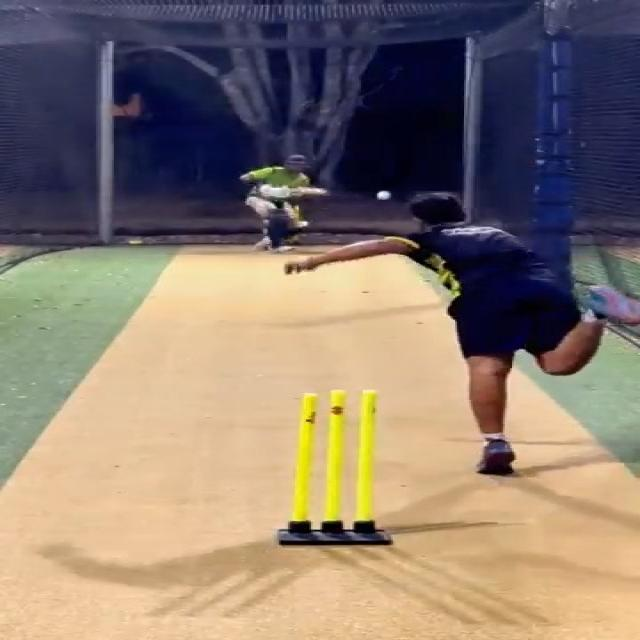ball: (375, 190, 393, 200)
stump: (277, 389, 394, 546)
